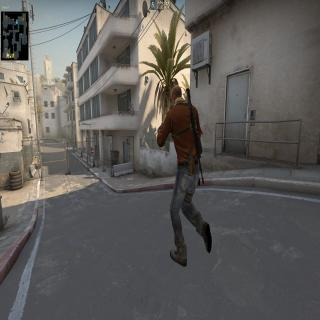T-Head: (170, 83, 183, 108)
